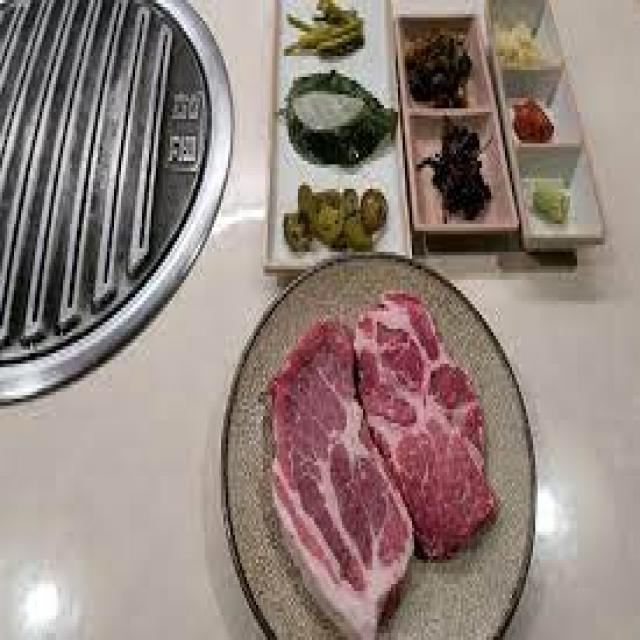pork belly: (270, 322, 414, 640), (356, 294, 500, 560)
